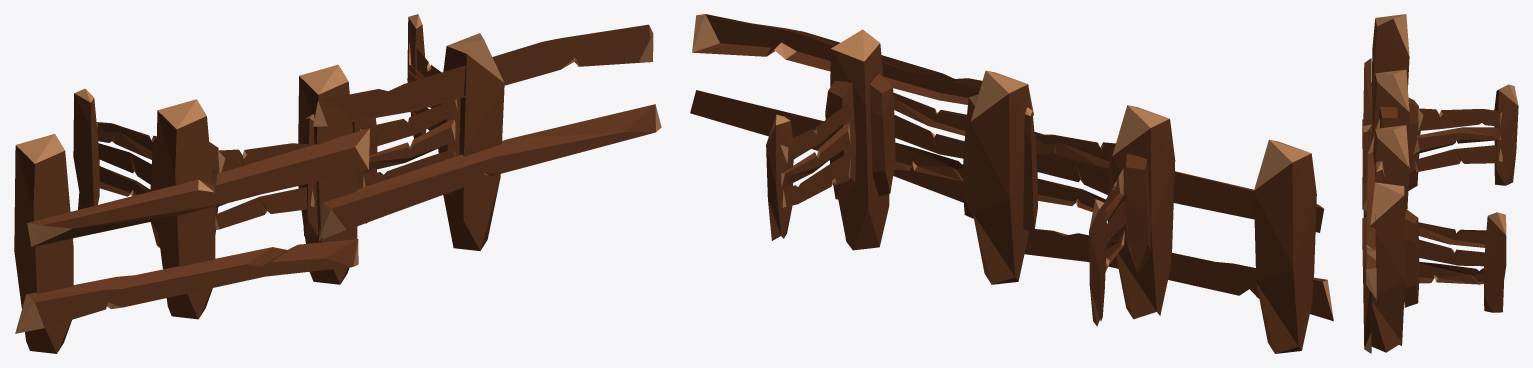
Rendered from Fence.fbx.
3 views of the same model, side by side, from view 1: azimuth 30°, elevation 25°; view 2: azimuth 150°, elevation 25°; view 3: azimuth 270°, elevation 25° (orthographic). The views are drawn at different scales.
Visible parts, largest first — view 1: Barriere, PortillonFerme, PortillonOuvert; view 2: Barriere, PortillonFerme, PortillonOuvert; view 3: PortillonOuvert, PortillonFerme, Barriere.
Boxes of the visible parts, <box> form: Barriere: <box>14,24,661,353</box>; PortillonFerme: <box>156,33,504,319</box>; PortillonOuvert: <box>73,14,441,247</box>; Barriere: <box>690,14,1333,353</box>; PortillonFerme: <box>830,29,1175,319</box>; PortillonOuvert: <box>766,81,1151,326</box>; PortillonOuvert: <box>1404,84,1518,312</box>; PortillonFerme: <box>1370,69,1409,352</box>; Barriere: <box>1362,14,1409,353</box>.
Bounding box in the file's own units: 683 × 210 × 178.
